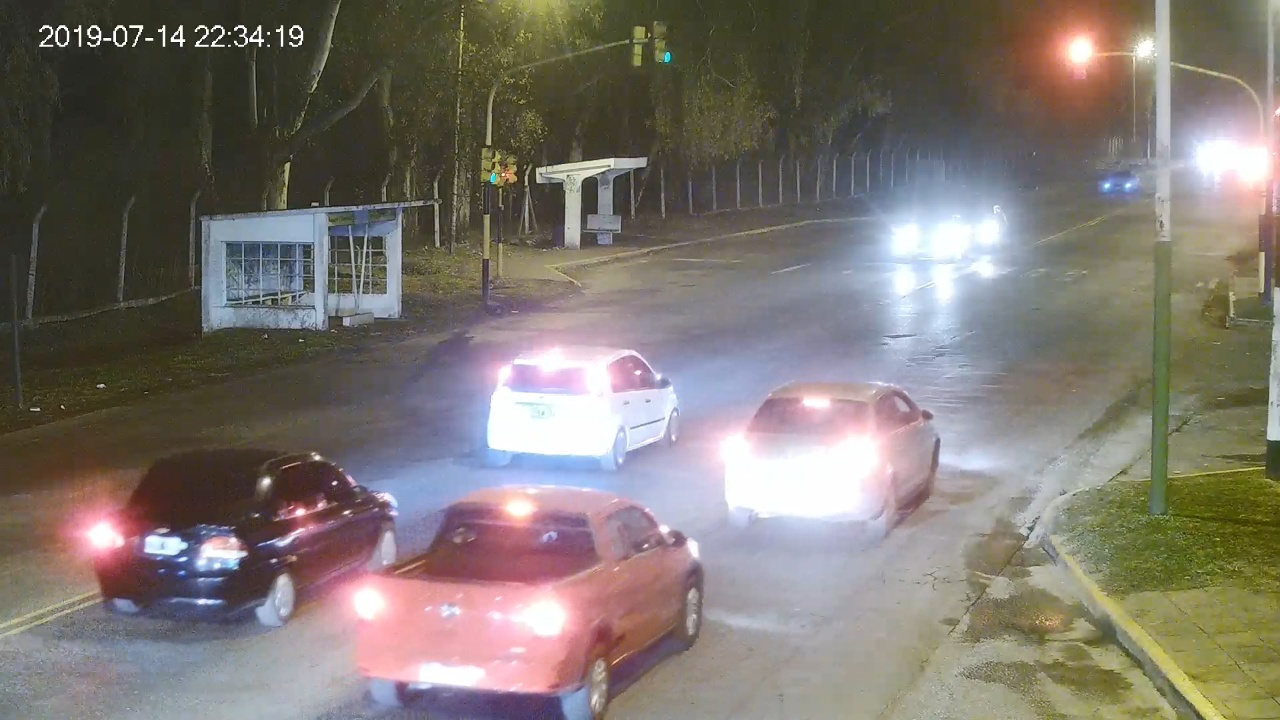car: (347, 485, 705, 720), (722, 381, 940, 536), (487, 346, 680, 469)
